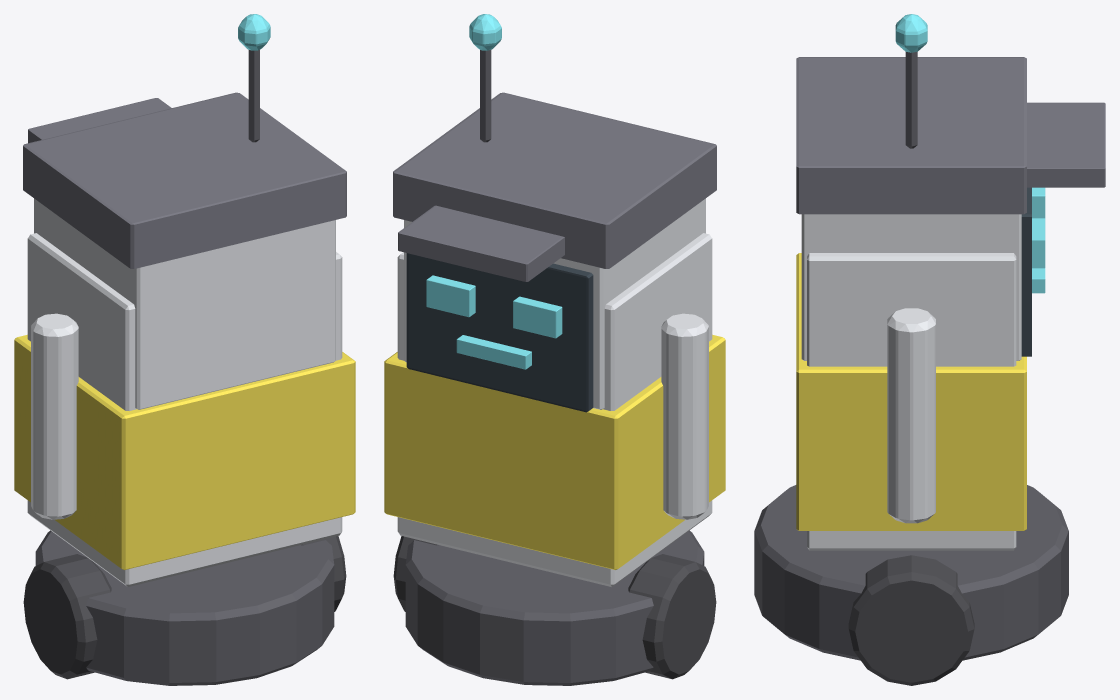
Rendered from PickerBot.fbx.
3 views of the same model, side by side, from view 1: azimuth 30°, elevation 25°; view 2: azimuth 150°, elevation 25°; view 3: azimuth 270°, elevation 25° (orthographic). The views are drawn at different scales.
Visible parts, largest first — view 1: Vest, Cap, Head, Base, Torso, ArmL, WheelL, CapPeak, Antenna, AntennaTip, WheelR; view 2: Vest, Cap, Base, Screen, Torso, ArmL, CapPeak, WheelL, Head, EyeL, EyeR, Mouth (+3 smaller); view 3: Cap, Vest, Torso, Base, WheelR, ArmR, Head, CapPeak, Screen, Antenna, AntennaTip, EyeR.
Part boxes in pixels (x1,y1,x2,y2): Vest: (14, 334, 355, 569); Cap: (23, 92, 346, 268); Head: (34, 198, 335, 409); Base: (35, 530, 334, 685); Torso: (27, 233, 342, 586); ArmL: (31, 313, 78, 519); WheelL: (23, 554, 111, 679); CapPeak: (28, 98, 171, 143); Antenna: (248, 50, 259, 142); AntennaTip: (238, 14, 270, 50); WheelR: (301, 536, 346, 611); Vest: (384, 334, 725, 569); Cap: (393, 92, 716, 268); Base: (405, 530, 704, 685); Screen: (406, 253, 593, 412); Torso: (397, 233, 712, 586); ArmL: (661, 313, 708, 519); CapPeak: (398, 205, 564, 281); WheelL: (628, 554, 716, 679); Head: (404, 198, 705, 409); EyeL: (513, 296, 562, 338); EyeR: (426, 275, 475, 317); Mouth: (456, 335, 531, 369); Cap: (796, 57, 1026, 214); Vest: (796, 253, 1026, 530); Torso: (807, 253, 1016, 550); Base: (754, 485, 1068, 660); WheelR: (848, 555, 974, 685); ArmR: (887, 308, 935, 523); Head: (801, 214, 1021, 360); CapPeak: (1027, 102, 1105, 187); Screen: (1021, 187, 1031, 356); Antenna: (905, 52, 917, 148); AntennaTip: (895, 14, 927, 52); EyeR: (1032, 218, 1045, 268).
Bounding box in the file's own units: 69.51 × 135 × 67.
